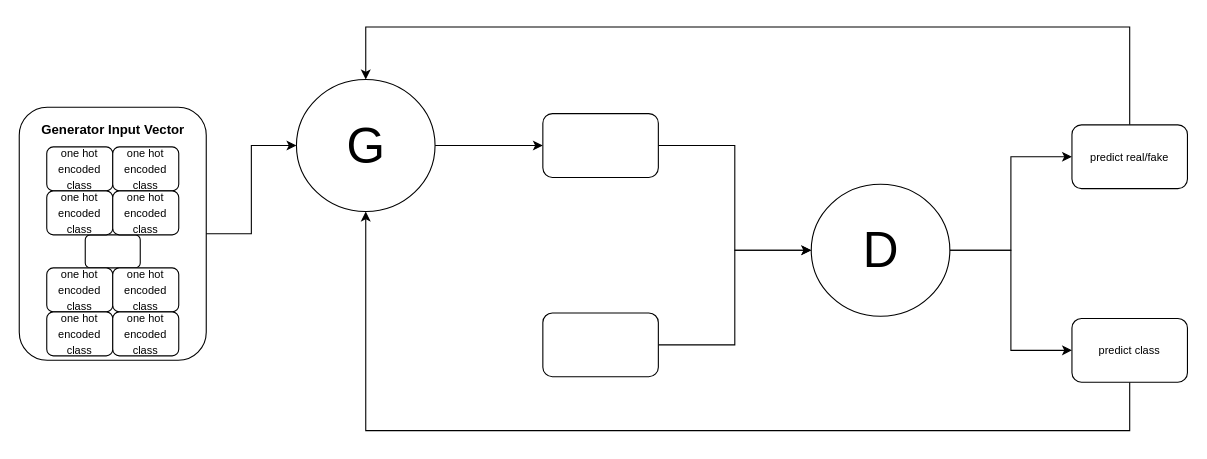
The diagram is 1207 pixels wide and 459 high, and some of its shapes have lost their labels. The shapes that lost their labels are listed below. From the top down, each one's centre as x and y in pixels, then its label:
At [600,145]: "Fake Sequences".
At [112,251]: "random noise".
At [600,344]: "Real Sequences".
